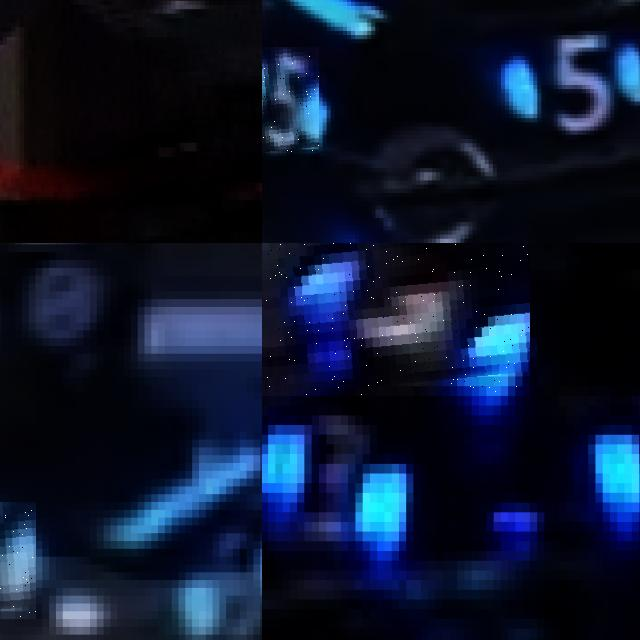B3: (262, 243, 530, 396), (262, 395, 413, 541)
B5: (509, 27, 640, 135), (171, 533, 262, 640), (262, 47, 318, 155), (0, 502, 35, 619)
